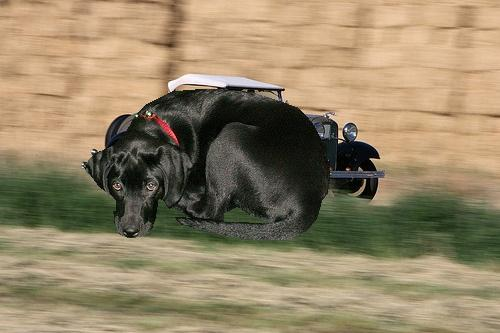tampered: (84, 90, 330, 240)
